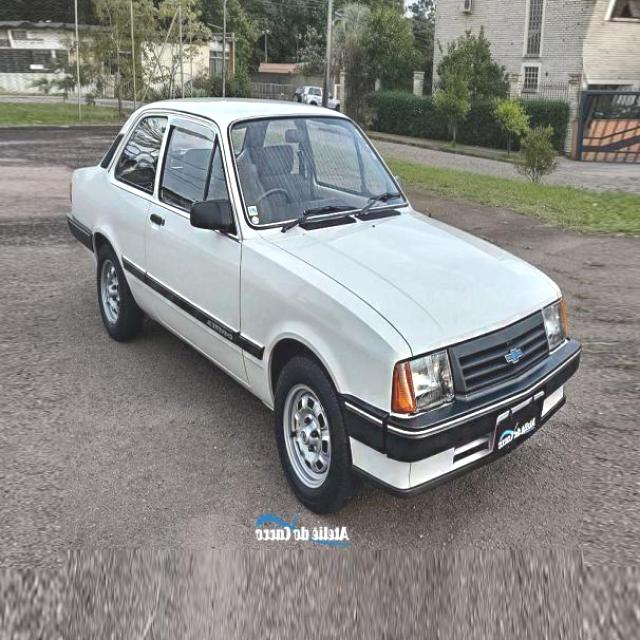car: (64, 96, 580, 522)
